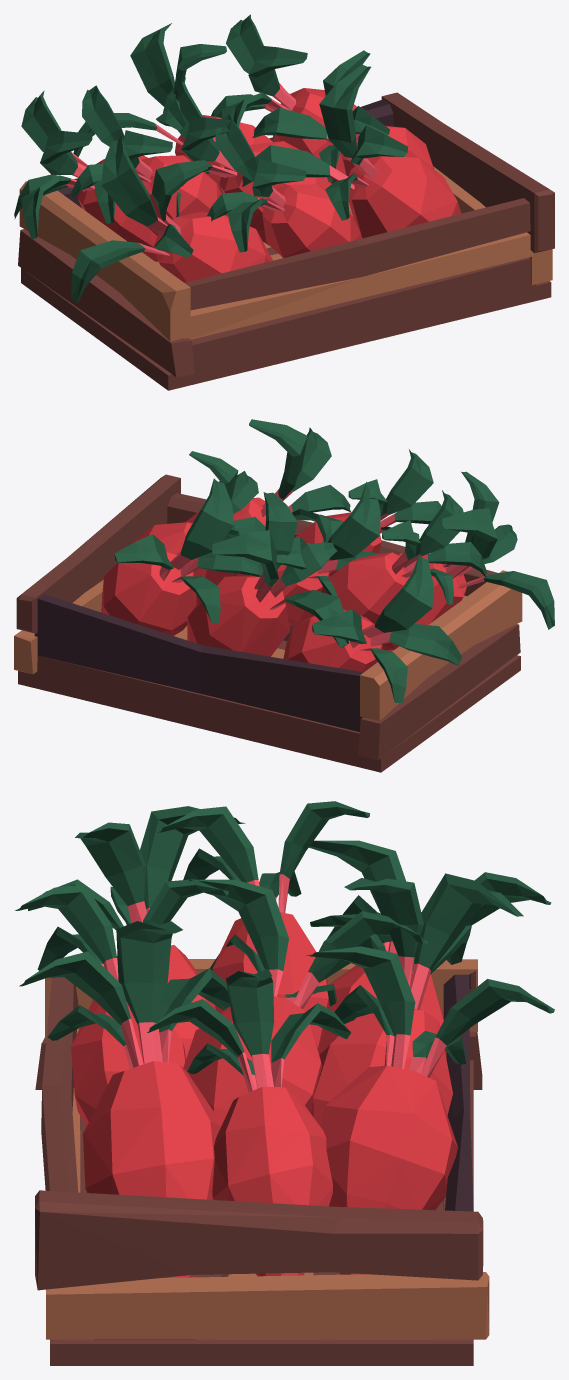
The model's file is Box_Beetroot.fbx.
3 renders of one model, top to bottom at view 1: azimuth 30°, elevation 25°; view 2: azimuth 150°, elevation 25°; view 3: azimuth 270°, elevation 25°, orthographic. The views are drawn at different scales.
Visible parts, largest first — view 1: Box_Beetroot, Beetroot_Box_07, Beetroot_Box_01, Beetroot_Box_04, Beetroot_Box_03, Beetroot_Box_02, Beetroot_Box_09, Beetroot_Box_06, Beetroot_Box_05, Beetroot_Box_08; view 2: Box_Beetroot, Beetroot_Box_06, Beetroot_Box_09, Beetroot_Box_03, Beetroot_Box_02, Beetroot_Box_01, Beetroot_Box_07, Beetroot_Box_05, Beetroot_Box_04, Beetroot_Box_08; view 3: Box_Beetroot, Beetroot_Box_07, Beetroot_Box_09, Beetroot_Box_08, Beetroot_Box_06, Beetroot_Box_05, Beetroot_Box_02, Beetroot_Box_04, Beetroot_Box_01, Beetroot_Box_03.
Boxes of the visible parts, <box> form: Box_Beetroot: <box>18,92,554,390</box>; Beetroot_Box_07: <box>242,64,461,238</box>; Beetroot_Box_01: <box>71,136,272,303</box>; Beetroot_Box_04: <box>207,114,361,257</box>; Beetroot_Box_03: <box>14,90,158,261</box>; Beetroot_Box_02: <box>71,85,228,235</box>; Beetroot_Box_09: <box>211,14,356,201</box>; Beetroot_Box_06: <box>73,23,272,193</box>; Beetroot_Box_05: <box>163,77,331,245</box>; Beetroot_Box_08: <box>252,50,433,182</box>; Box_Beetroot: <box>14,474,522,772</box>; Beetroot_Box_06: <box>187,492,349,656</box>; Beetroot_Box_09: <box>101,478,263,635</box>; Beetroot_Box_03: <box>283,554,461,702</box>; Beetroot_Box_02: <box>311,490,487,623</box>; Beetroot_Box_01: <box>382,471,554,651</box>; Beetroot_Box_07: <box>185,419,350,604</box>; Beetroot_Box_05: <box>232,482,383,626</box>; Beetroot_Box_04: <box>294,449,441,576</box>; Beetroot_Box_08: <box>131,451,265,577</box>; Box_Beetroot: <box>35,959,489,1365</box>; Beetroot_Box_07: <box>19,921,229,1277</box>; Beetroot_Box_09: <box>306,946,554,1274</box>; Beetroot_Box_08: <box>147,969,350,1276</box>; Beetroot_Box_06: <box>310,873,523,1125</box>; Beetroot_Box_05: <box>183,879,427,1123</box>; Beetroot_Box_02: <box>156,801,369,1054</box>; Beetroot_Box_04: <box>15,879,228,1126</box>; Beetroot_Box_01: <box>28,806,245,1058</box>; Beetroot_Box_03: <box>309,840,551,1058</box>.
Size of the model in its own units: 100 by 50.36 by 73.04.
